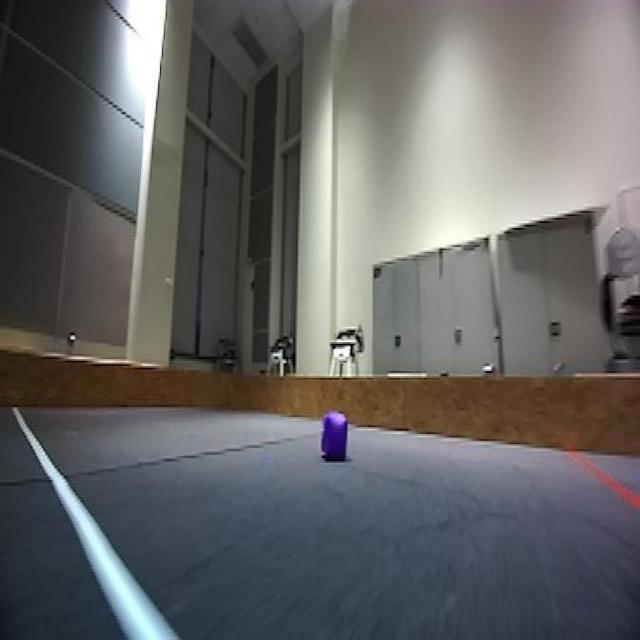frc_cube: (320, 412, 351, 465)
